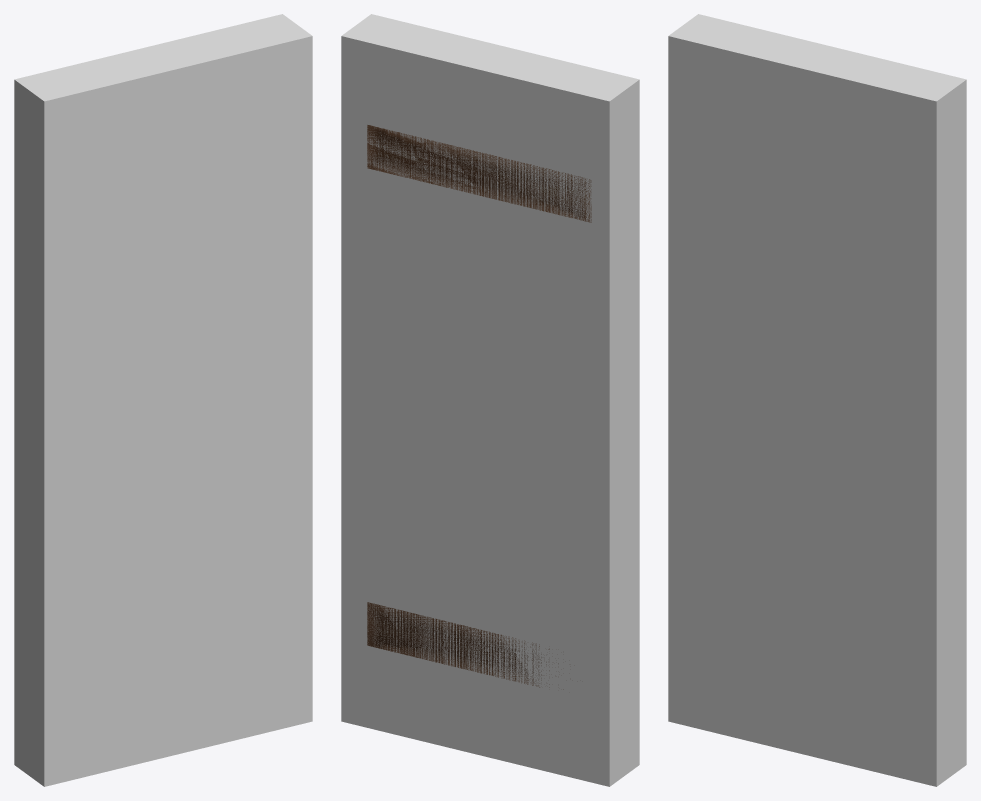
The model's file is house_shutter.glb.
3 views of the same model, side by side, from view 1: azimuth 30°, elevation 25°; view 2: azimuth 150°, elevation 25°; view 3: azimuth 330°, elevation 25° (orthographic).
Visible parts, largest first — view 1: COL_house_shutter_static_00; view 2: COL_house_shutter_static_00, house_shutter_static; view 3: COL_house_shutter_static_00.
Boxes of the visible parts, x1,y1,x2,y2 form: COL_house_shutter_static_00: (14,14,312,786); COL_house_shutter_static_00: (341,14,639,786); house_shutter_static: (367,125,591,689); COL_house_shutter_static_00: (668,14,966,786).
Size of the model in its own units: 0.4118 by 1.01 by 0.08.
2 materials, 2 textured.
